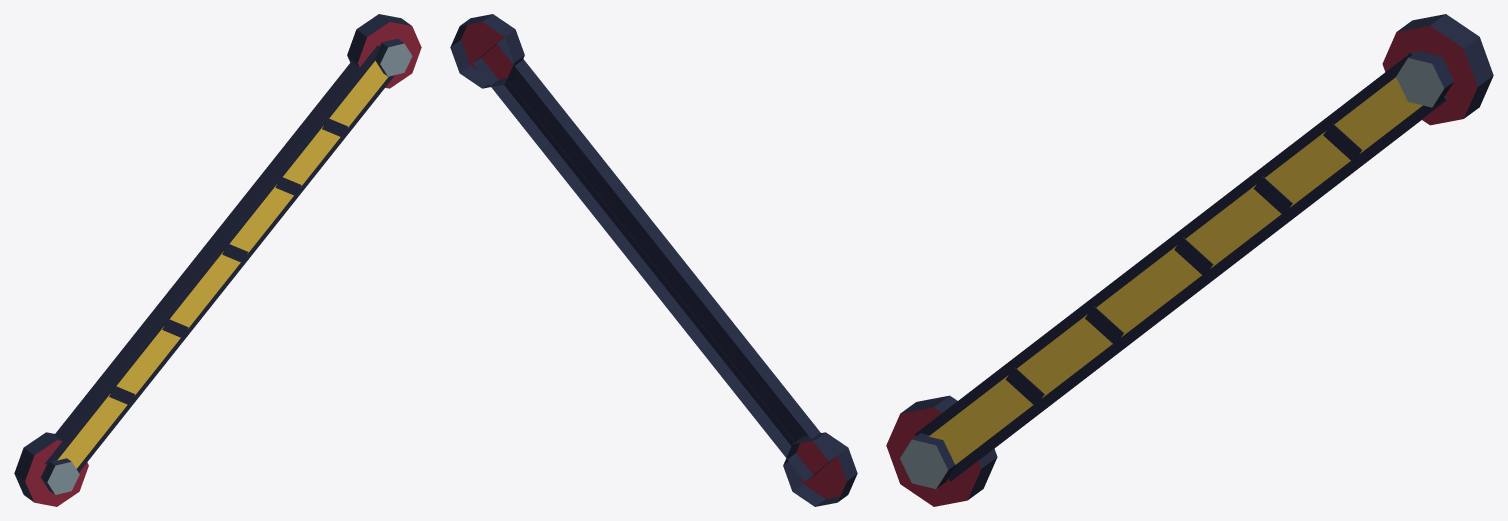
Rendered from ShaftLock.gltf.
3 renders of one model, left to right at view 1: azimuth 30°, elevation 25°; view 2: azimuth 150°, elevation 25°; view 3: azimuth 330°, elevation 25°, orthographic. The views are drawn at different scales.
Visible parts, largest first — view 1: ShaftLock; view 2: ShaftLock; view 3: ShaftLock.
Part boxes in pixels (bbox=[...]): ShaftLock: bbox=[14, 14, 421, 506]; ShaftLock: bbox=[450, 14, 857, 506]; ShaftLock: bbox=[886, 14, 1493, 506].
Size of the model in its own units: 1.49 by 1.45 by 0.113.
